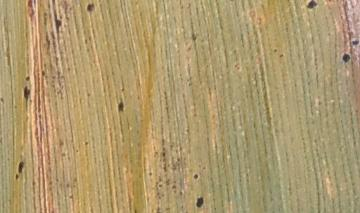tarspot: (20, 84, 32, 102), (14, 158, 25, 177), (340, 50, 353, 65), (194, 195, 205, 209), (303, 1, 319, 10), (116, 98, 125, 114), (54, 15, 62, 29), (86, 2, 96, 13), (190, 31, 198, 42), (145, 169, 154, 178), (272, 46, 282, 54), (191, 172, 199, 182), (351, 38, 359, 47), (277, 51, 285, 60), (13, 173, 21, 181), (23, 74, 30, 82), (84, 138, 90, 147)
